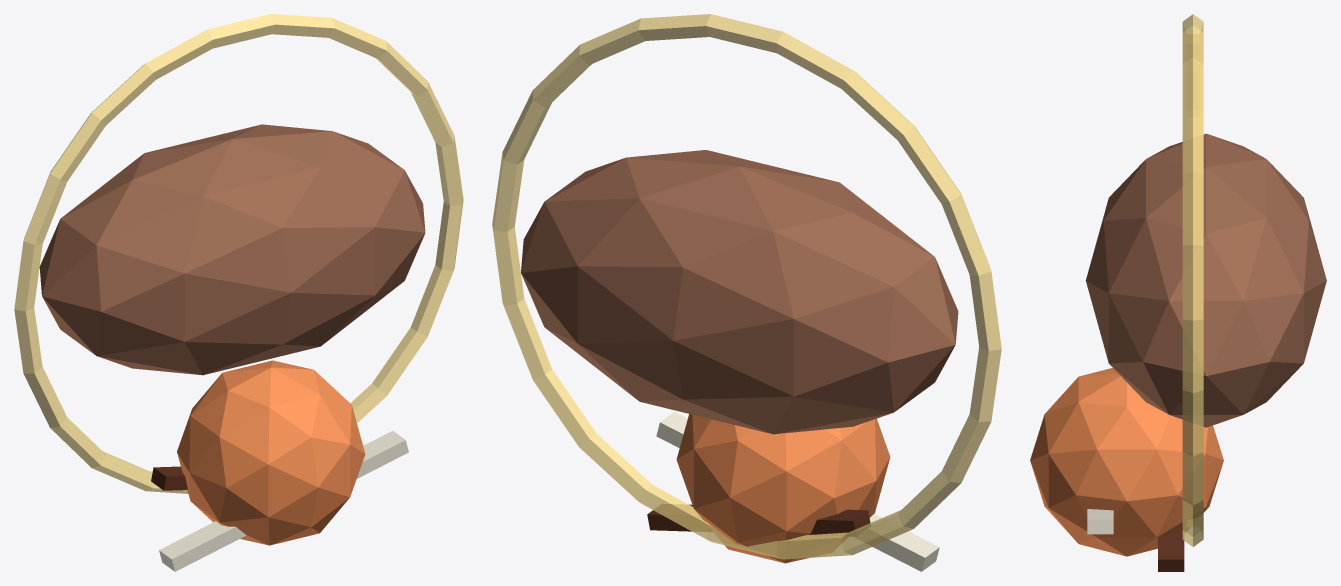
The model's file is 02_random_skin_projector.glb.
The picture shows the model from 3 angles, left to right: view 1: azimuth 30°, elevation 25°; view 2: azimuth 150°, elevation 25°; view 3: azimuth 270°, elevation 25°; orthographic projection. The views are drawn at different scales.
Parts seen in each view (by area): view 1: skin_preview_body, skin_preview_head, skin_shuffle_ring, pattern_stripe_a, pattern_stripe_b; view 2: skin_preview_body, skin_shuffle_ring, skin_preview_head, pattern_stripe_a, pattern_stripe_b; view 3: skin_preview_body, skin_preview_head, skin_shuffle_ring, pattern_stripe_b, pattern_stripe_a.
Boxes of the visible parts, left/top/right/bottom form: skin_preview_body: left=39, top=124, right=425, bottom=375; skin_preview_head: left=177, top=360, right=365, bottom=545; skin_shuffle_ring: left=14, top=14, right=463, bottom=493; pattern_stripe_a: left=159, top=431, right=408, bottom=571; pattern_stripe_b: left=151, top=466, right=187, bottom=490; skin_preview_body: left=521, top=150, right=958, bottom=434; skin_shuffle_ring: left=492, top=14, right=1001, bottom=559; skin_preview_head: left=676, top=414, right=890, bottom=563; pattern_stripe_a: left=656, top=411, right=939, bottom=571; pattern_stripe_b: left=647, top=504, right=870, bottom=535; skin_preview_body: left=1085, top=133, right=1326, bottom=427; skin_preview_head: left=1030, top=368, right=1223, bottom=556; skin_shuffle_ring: left=1182, top=14, right=1203, bottom=546; pattern_stripe_b: left=1158, top=526, right=1184, bottom=571; pattern_stripe_a: left=1087, top=509, right=1113, bottom=534.
Size of the model in its own units: 1.21 by 1.27 by 0.6736.
